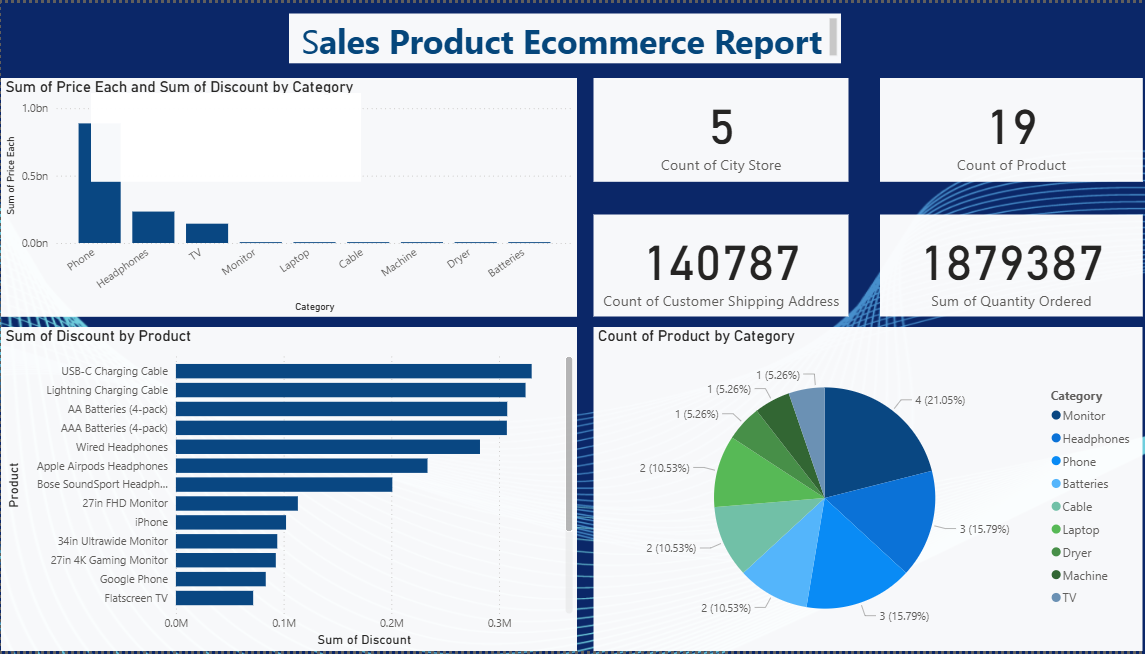

What the dashboard file says about the page in this screenshot:
{"tool":"powerbi","page":{"name":"Page 1","canvas":[1280,720],"ordinal":0},"visuals":[{"type":"pieChart","fields":{"Category":["Sales Product Ecommerce.Category"],"Y":["Count(Sales Product Ecommerce.Product)"]},"box":[658.3,360,610,360],"z":0},{"type":"barChart","fields":{"Category":["Sales Product Ecommerce.Product"],"Y":["Sum(Sales Product Ecommerce.Discount)"]},"box":[0,360,640,360],"z":1000},{"type":"lineStackedColumnComboChart","fields":{"Category":["Sales Product Ecommerce.Category"],"Y":["Sum(Sales Product Ecommerce.Price Each)"]},"box":[0,83.3,640,265],"z":2000},{"type":"card","fields":{"Values":["Sum(Sales Product Ecommerce.Quantity Ordered)"]},"box":[976.7,235,291.7,113.3],"z":3000},{"type":"card","fields":{"Values":["Count(Sales Product Ecommerce.Product)"]},"box":[976.7,83.3,291.7,115],"z":4000},{"type":"card","fields":{"Values":["Count(Sales Product Ecommerce.Customer Shipping Address)"]},"box":[658.3,235,283.3,113.3],"z":5000},{"type":"card","fields":{"Values":["Count(Sales Product Ecommerce.City Store)"]},"box":[658.3,83.3,283.3,115],"z":6000},{"type":"textbox","box":[100,100,300,98.3],"z":7000},{"type":"textbox","box":[320,11.7,613.3,55],"z":8000}]}

Visuals, with their boxes in screenshot pixels (x1, y1, x2, y2), scaled from the page's 1280x720 canvas onto the 1145x654 screenshot:
pieChart - Sales Product Ecommerce.Category x Count(Sales Product Ecommerce.Product): box(589, 327, 1135, 653)
barChart - Sales Product Ecommerce.Product x Sum(Sales Product Ecommerce.Discount): box(0, 327, 572, 653)
lineStackedColumnComboChart - Sales Product Ecommerce.Category x Sum(Sales Product Ecommerce.Price Each): box(0, 76, 572, 316)
card - Sum(Sales Product Ecommerce.Quantity Ordered): box(874, 213, 1135, 316)
card - Count(Sales Product Ecommerce.Product): box(874, 76, 1135, 180)
card - Count(Sales Product Ecommerce.Customer Shipping Address): box(589, 213, 842, 316)
card - Count(Sales Product Ecommerce.City Store): box(589, 76, 842, 180)
textbox: box(89, 91, 358, 180)
textbox: box(286, 11, 835, 61)
